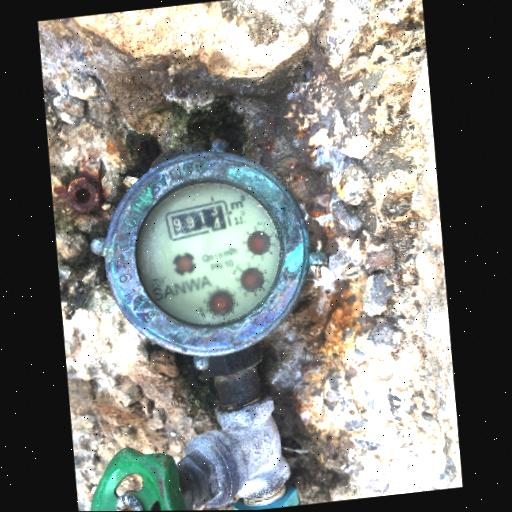1: (196, 207, 212, 229)
3: (207, 204, 227, 232)
9: (170, 214, 189, 237), (183, 210, 201, 233)
border_water_meter_number: (163, 198, 233, 242)
